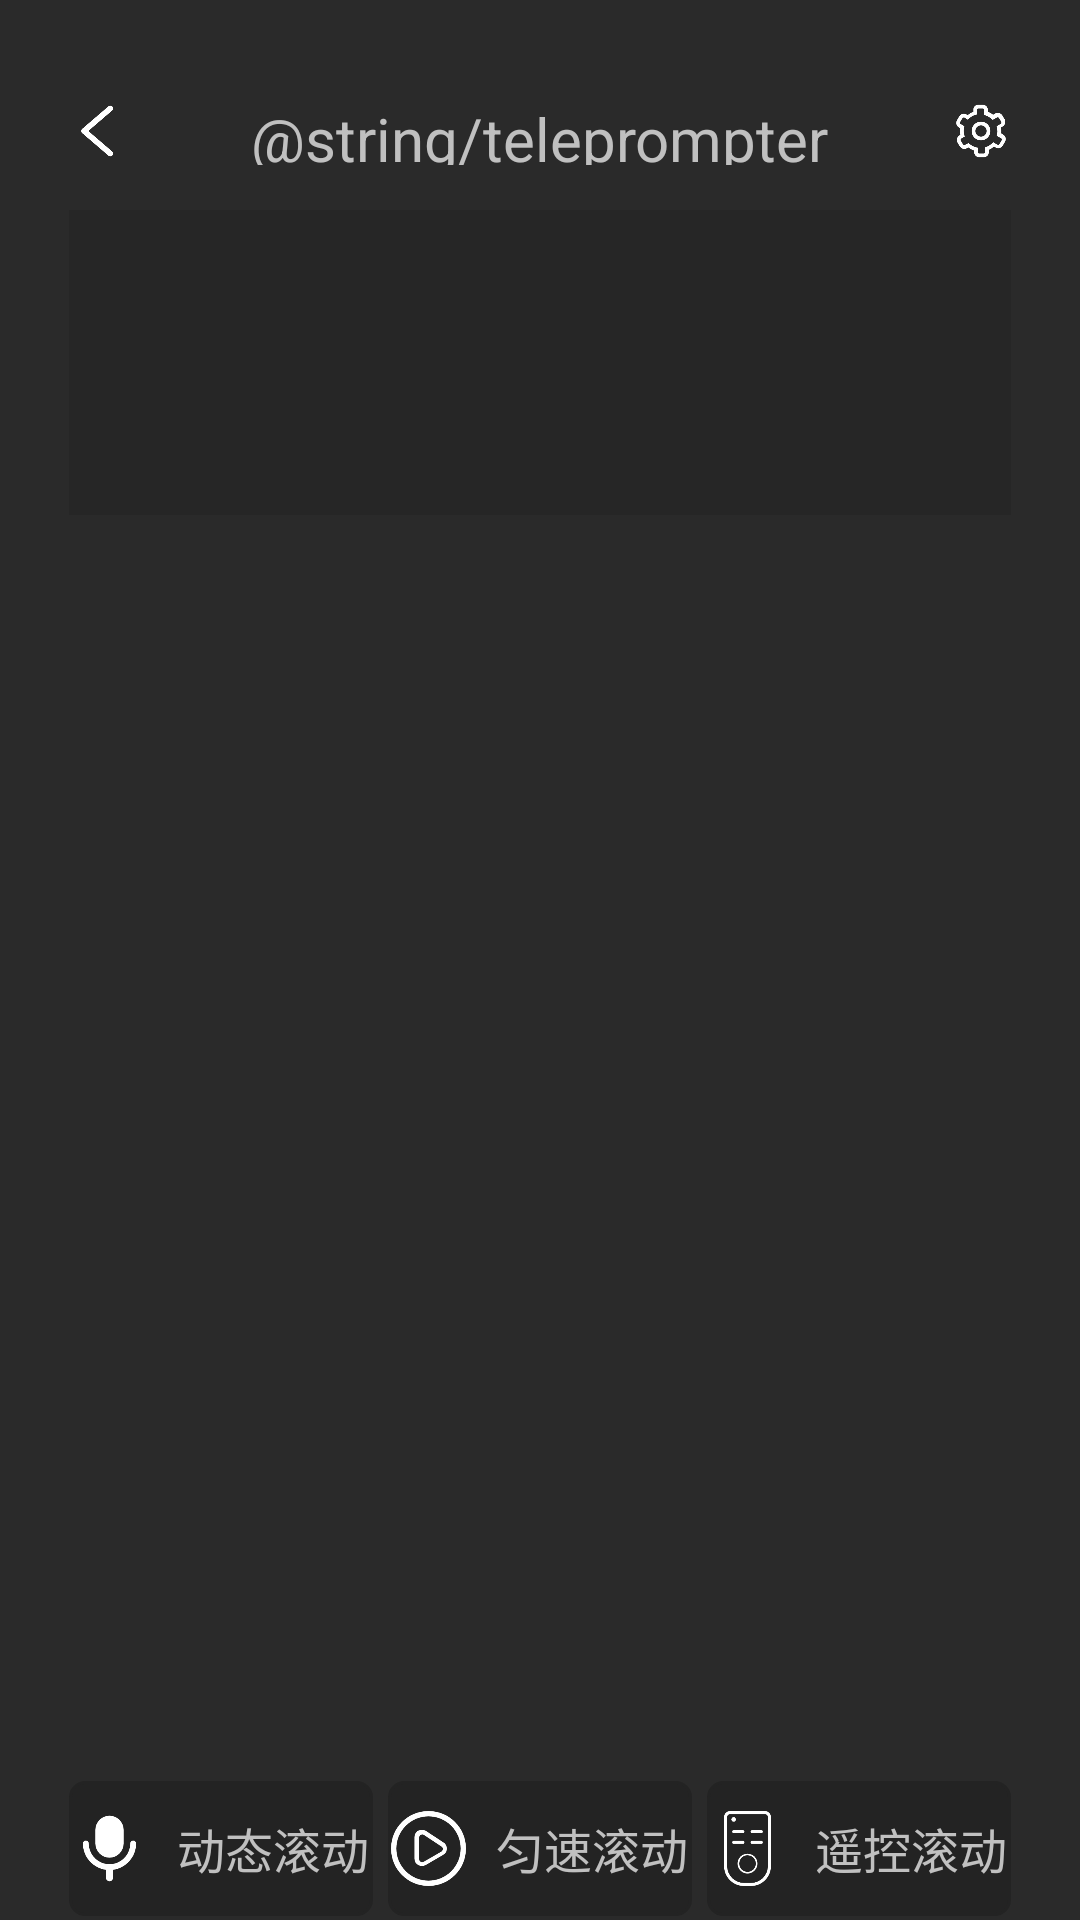

Icons on this 1080 × 1920 Android screen, each with its box as (x1, y1, x2, y2):
continue: (391, 1811, 466, 1886)
left: (81, 106, 113, 157)
mic on: (83, 1815, 136, 1882)
remote on: (724, 1811, 771, 1886)
teleprompter display settings: (956, 105, 1006, 157)
